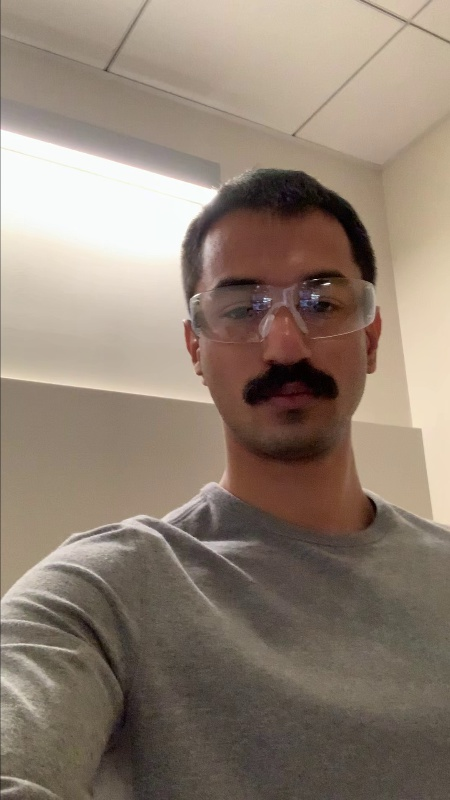glasses: (176, 280, 382, 329)
